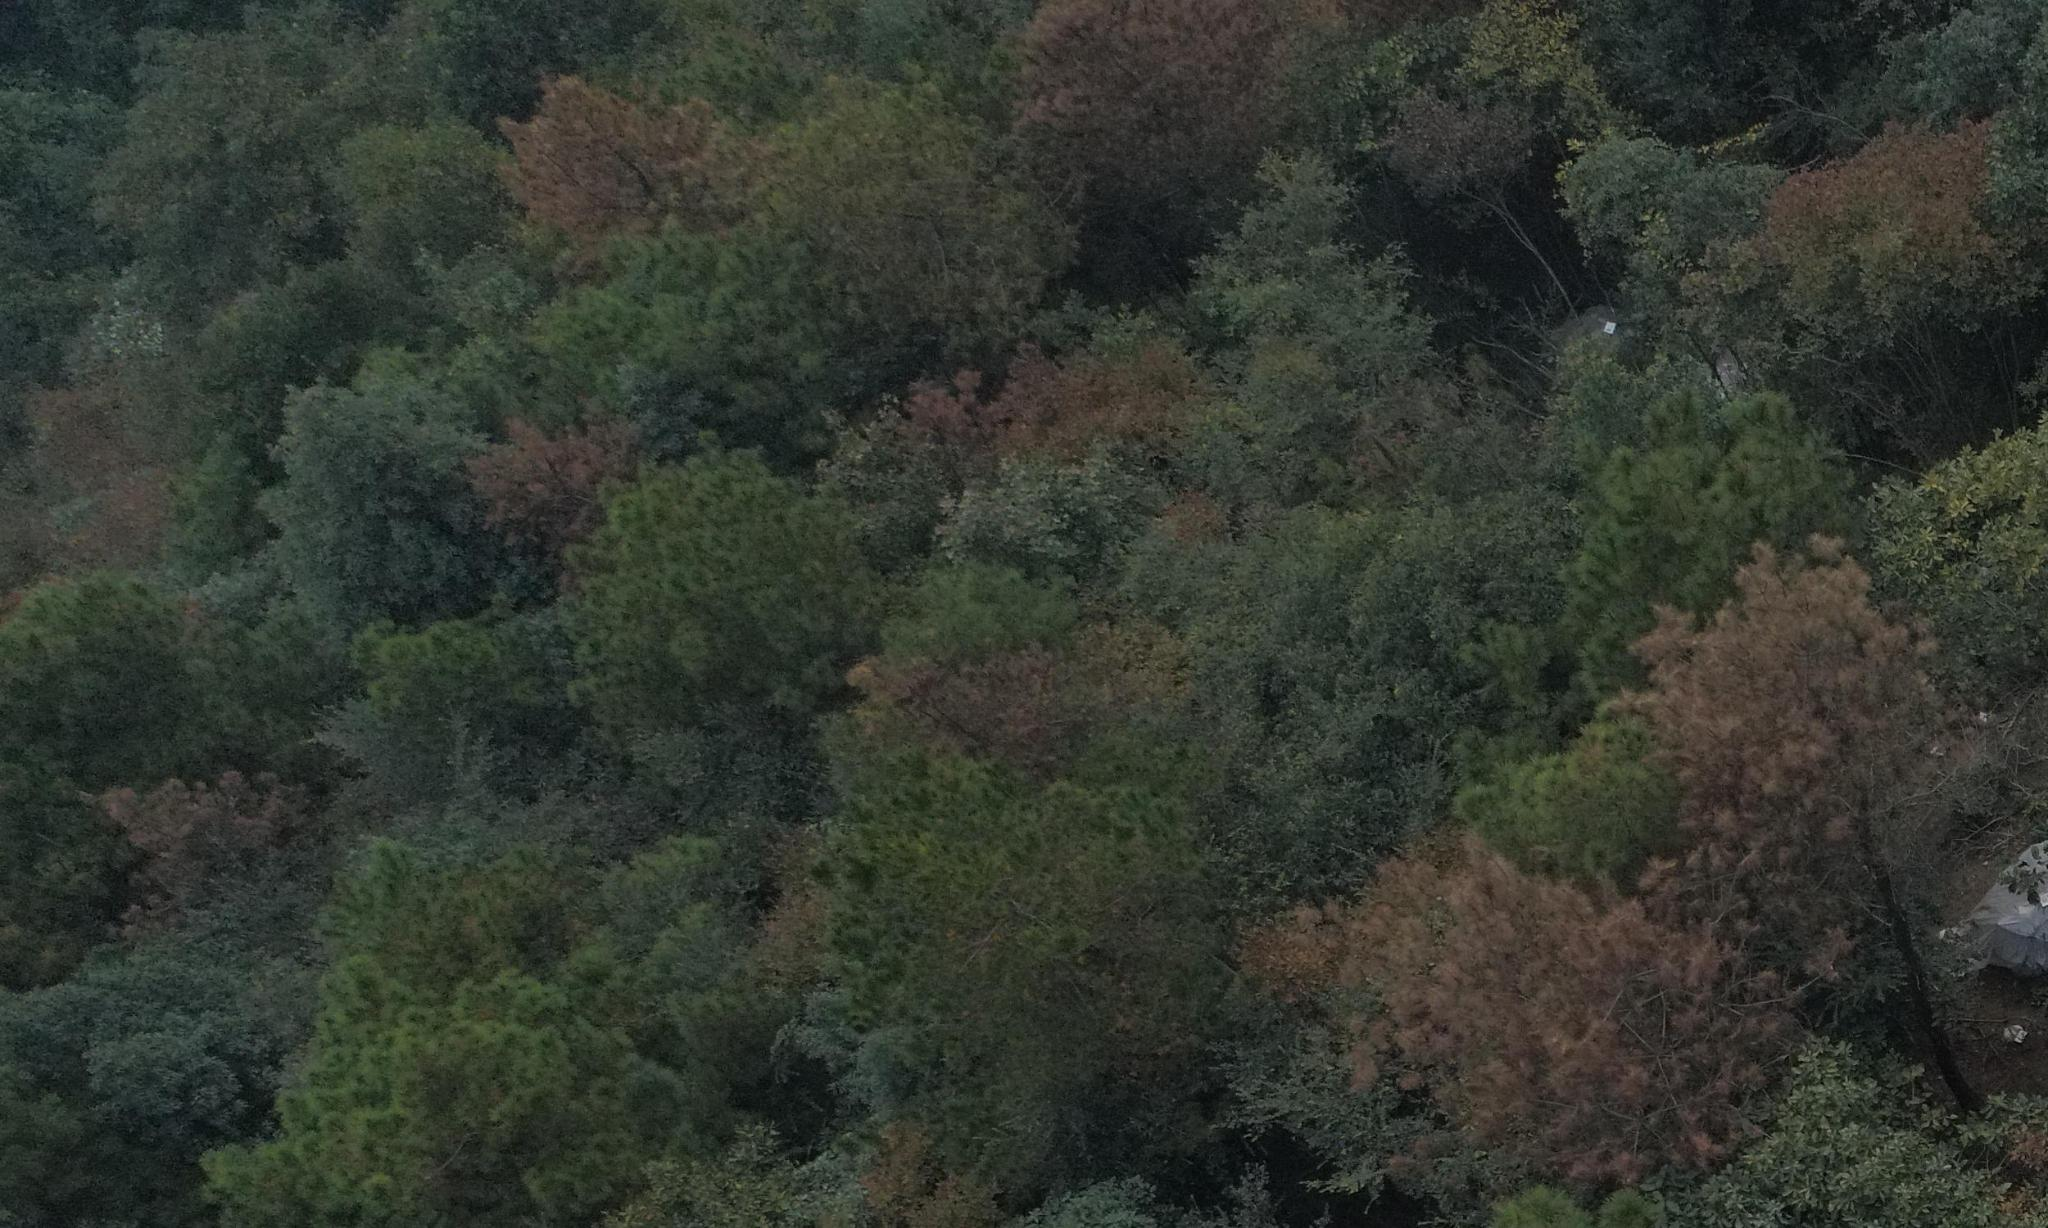heavy: (1335, 873, 1751, 1183), (1630, 556, 1957, 845), (860, 339, 1225, 468), (1028, 7, 1324, 159), (491, 76, 747, 251), (471, 412, 639, 548)
